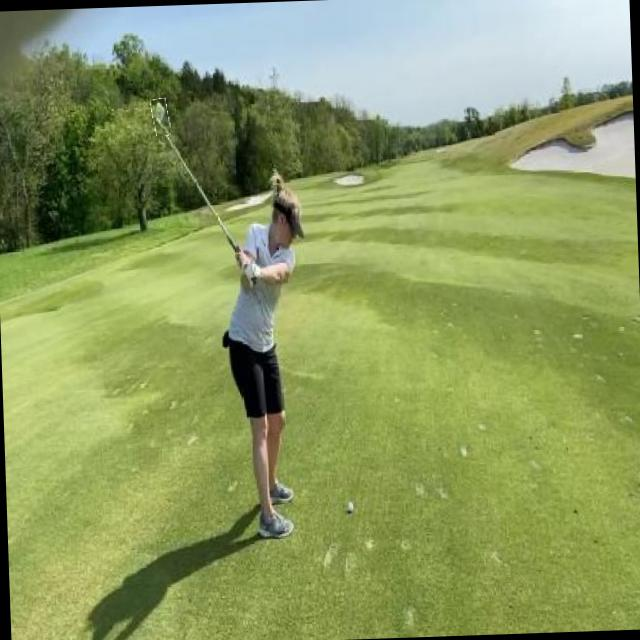club head: (152, 98, 170, 136)
